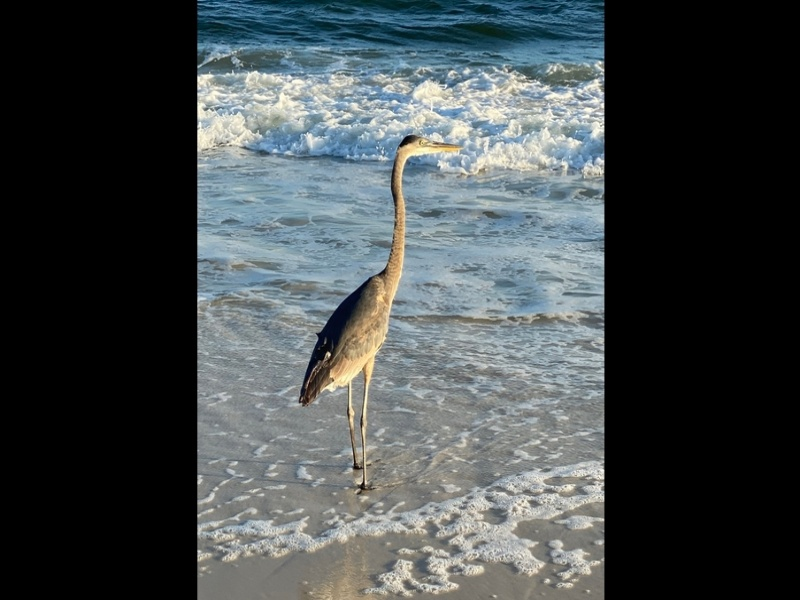heron: (294, 135, 463, 494)
